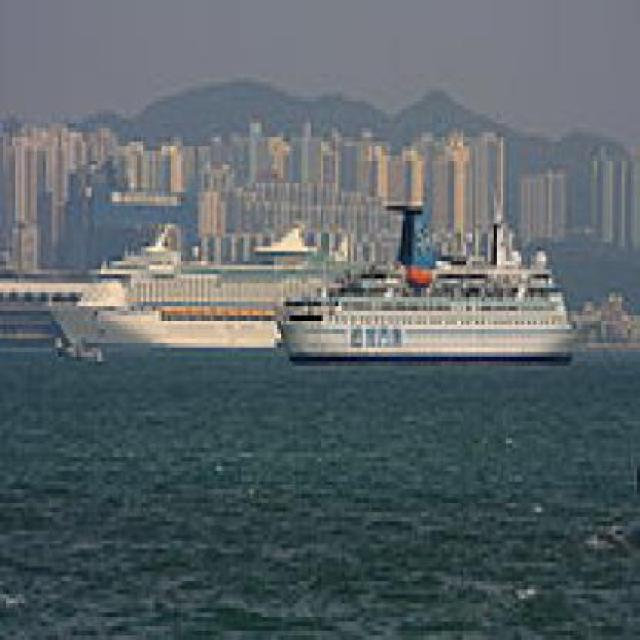cruise: (276, 188, 596, 385), (35, 198, 342, 358)
